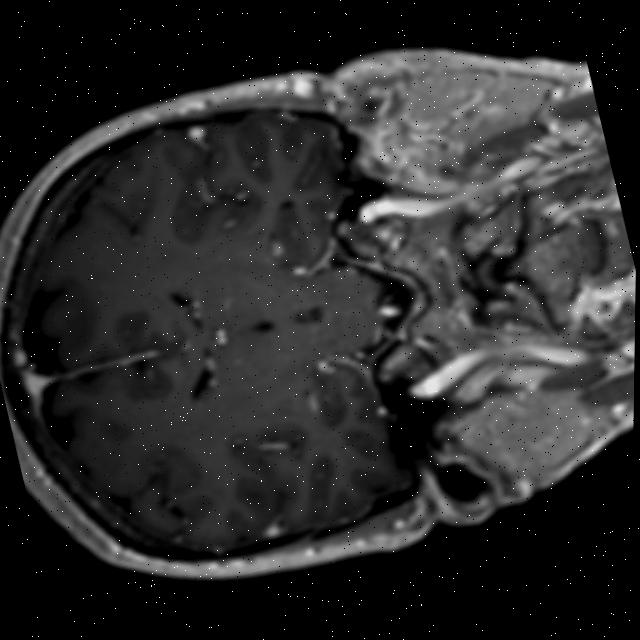NoTumor: (0, 53, 447, 637)
